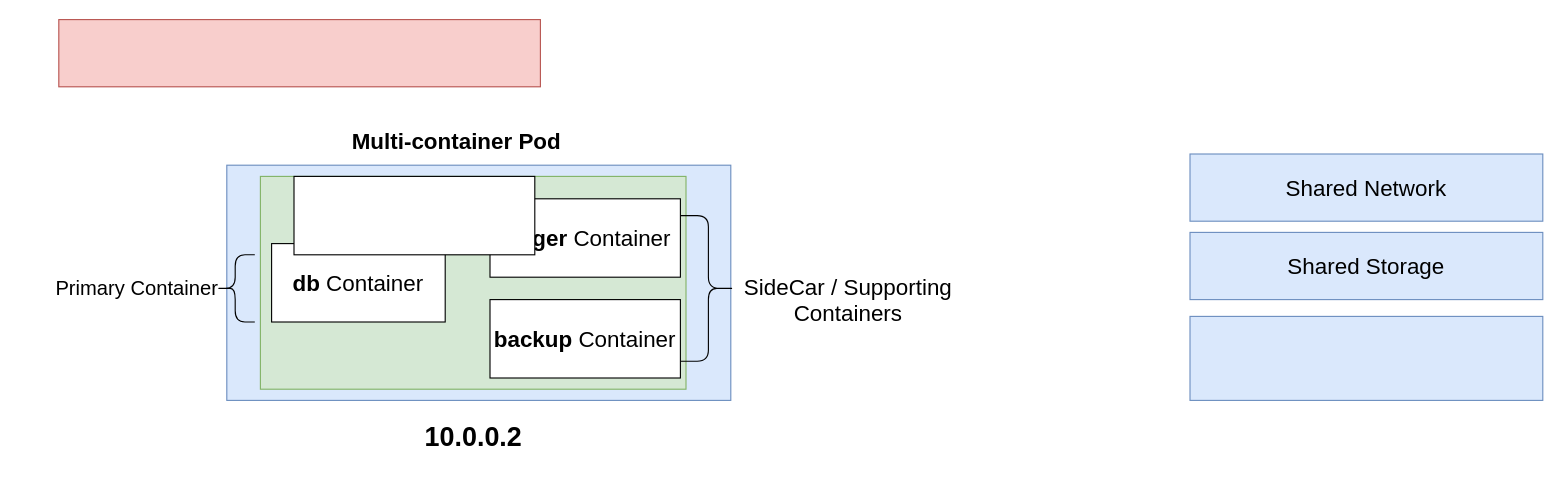
This 1562x479 diagram has some shape labels left out. Here are the shapes that lost their labels. From the top down, the centre of each, then its label:
At (x=299, y=52): "Not a Good Practice Until Needs Specifically".
At (x=414, y=215): "supported Container".
At (x=1366, y=357): "Communicate inside through LOCALHOST:<port>".
